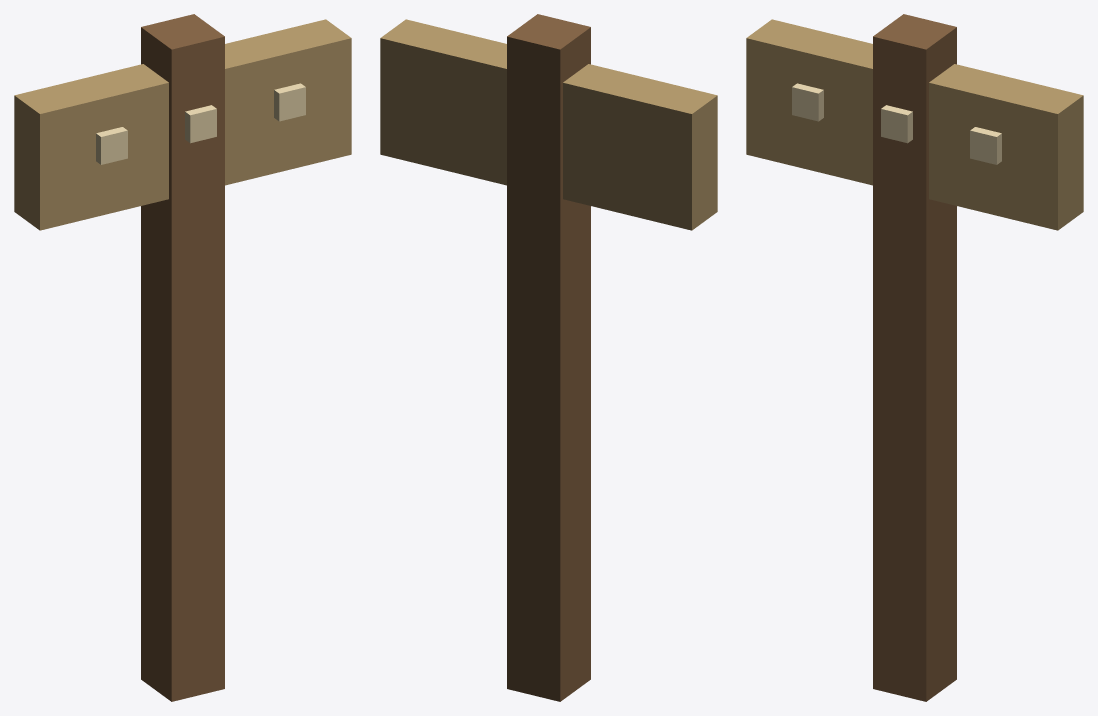
The picture shows the model from 3 angles, left to right: view 1: azimuth 30°, elevation 25°; view 2: azimuth 150°, elevation 25°; view 3: azimuth 330°, elevation 25°; orthographic projection.
Parts seen in each view (by area): view 1: e92e6818b72114ec7acca8b5cac761b90c25baa42af36c20c4d338a966e2; view 2: e92e6818b72114ec7acca8b5cac761b90c25baa42af36c20c4d338a966e2; view 3: e92e6818b72114ec7acca8b5cac761b90c25baa42af36c20c4d338a966e2.
Part boxes in pixels (x1,y1,x2,y2): e92e6818b72114ec7acca8b5cac761b90c25baa42af36c20c4d338a966e2: (14,14,351,701); e92e6818b72114ec7acca8b5cac761b90c25baa42af36c20c4d338a966e2: (380,14,717,701); e92e6818b72114ec7acca8b5cac761b90c25baa42af36c20c4d338a966e2: (746,14,1083,701).
Size of the model in its own units: 0.7 by 1.4 by 0.14.
Materials: 1 (1 with a texture image).
